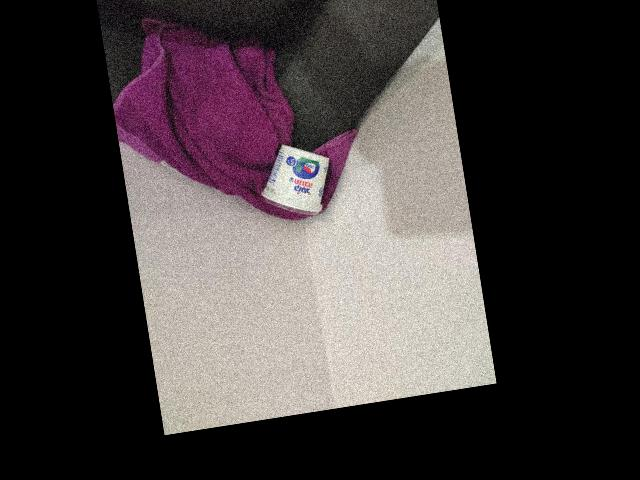cotage: (256, 141, 334, 225)
